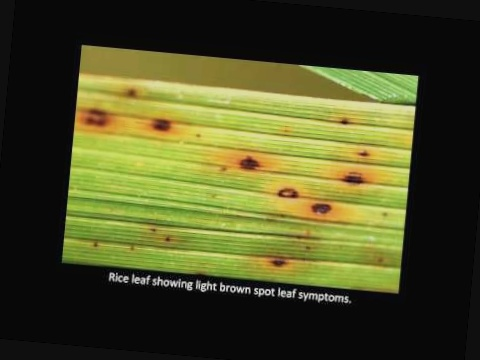Bacterial_Leaf_Blight: (225, 140, 274, 180), (75, 98, 125, 136), (139, 106, 187, 142), (260, 251, 306, 272), (301, 195, 341, 218), (344, 165, 374, 192), (274, 182, 307, 203), (333, 109, 358, 132), (120, 86, 147, 100), (353, 144, 374, 161)
